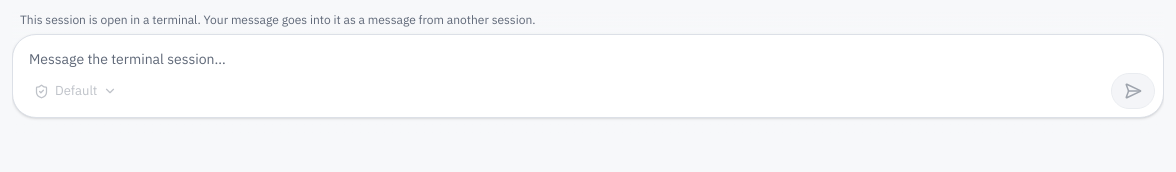
Test: T117 the composer for a live terminal session stays enabled
Expected: the button named "Send to the terminal session" is shown, [1111,73,1155,109]
Type "hello" into the text box named "Reply to session" at x=588, y=54, box [13,35,1163,73]
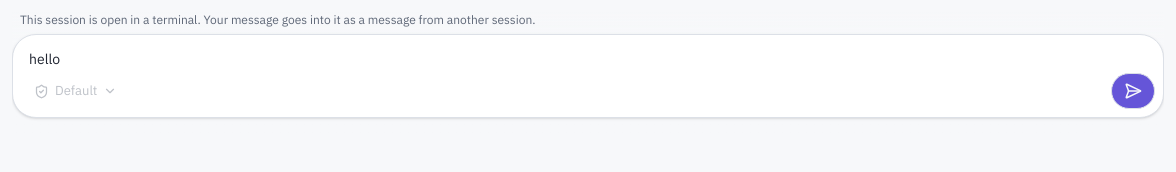
Expected: the button named "Send to the terminal session" is enabled, [1111,73,1155,109]
